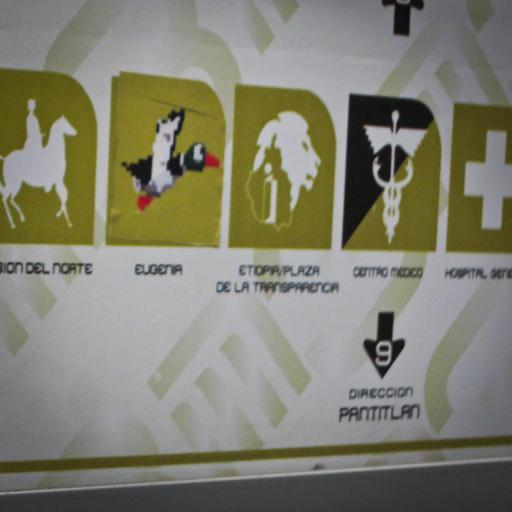Horse: (0, 112, 79, 230)
